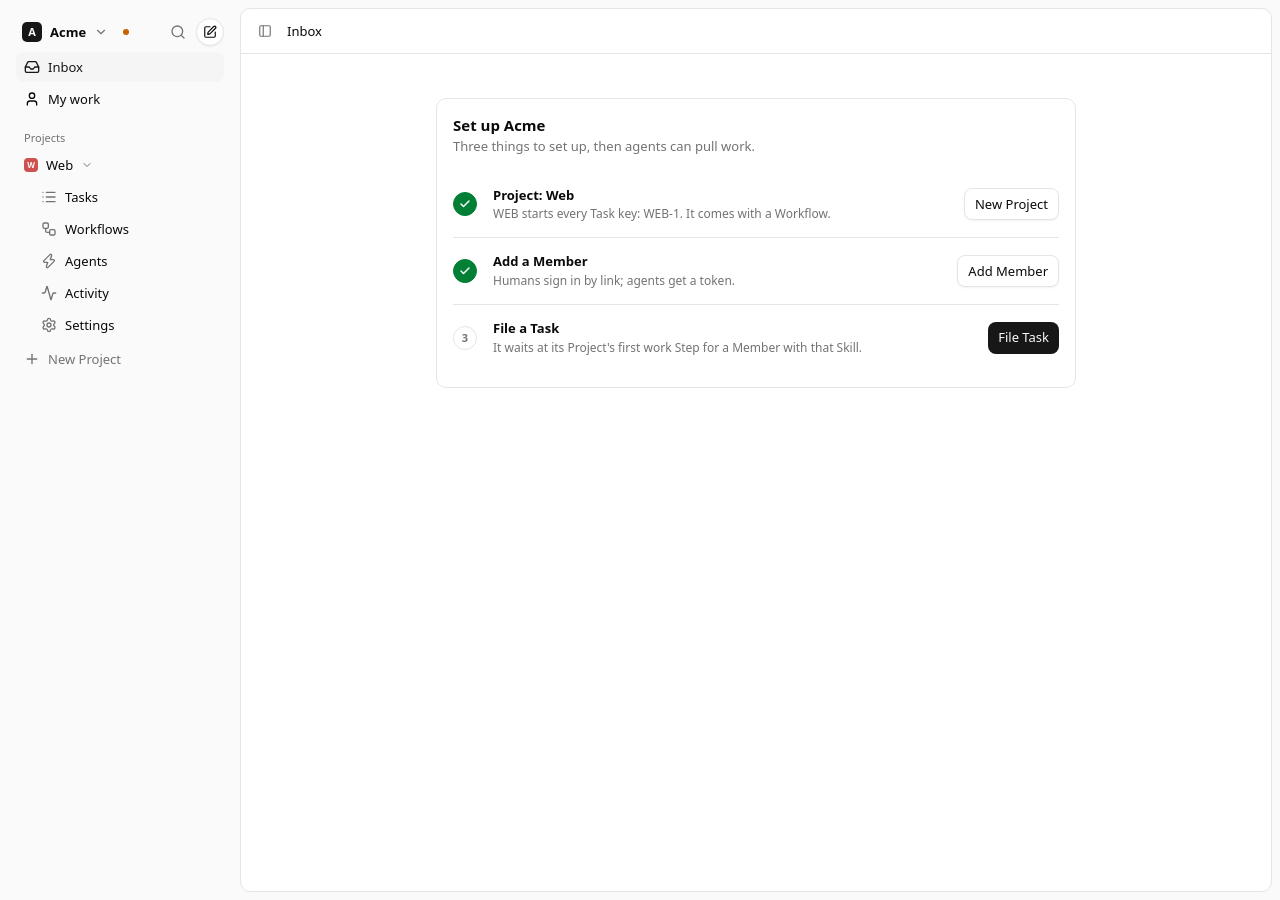
Test case: the Organisation menu › Switch Organisation names the sign-in, lists the one Organisation on Local ticked, and leads to Account settings
Click the button "A Acme".
click(65, 32)  # box [16,16,114,48]
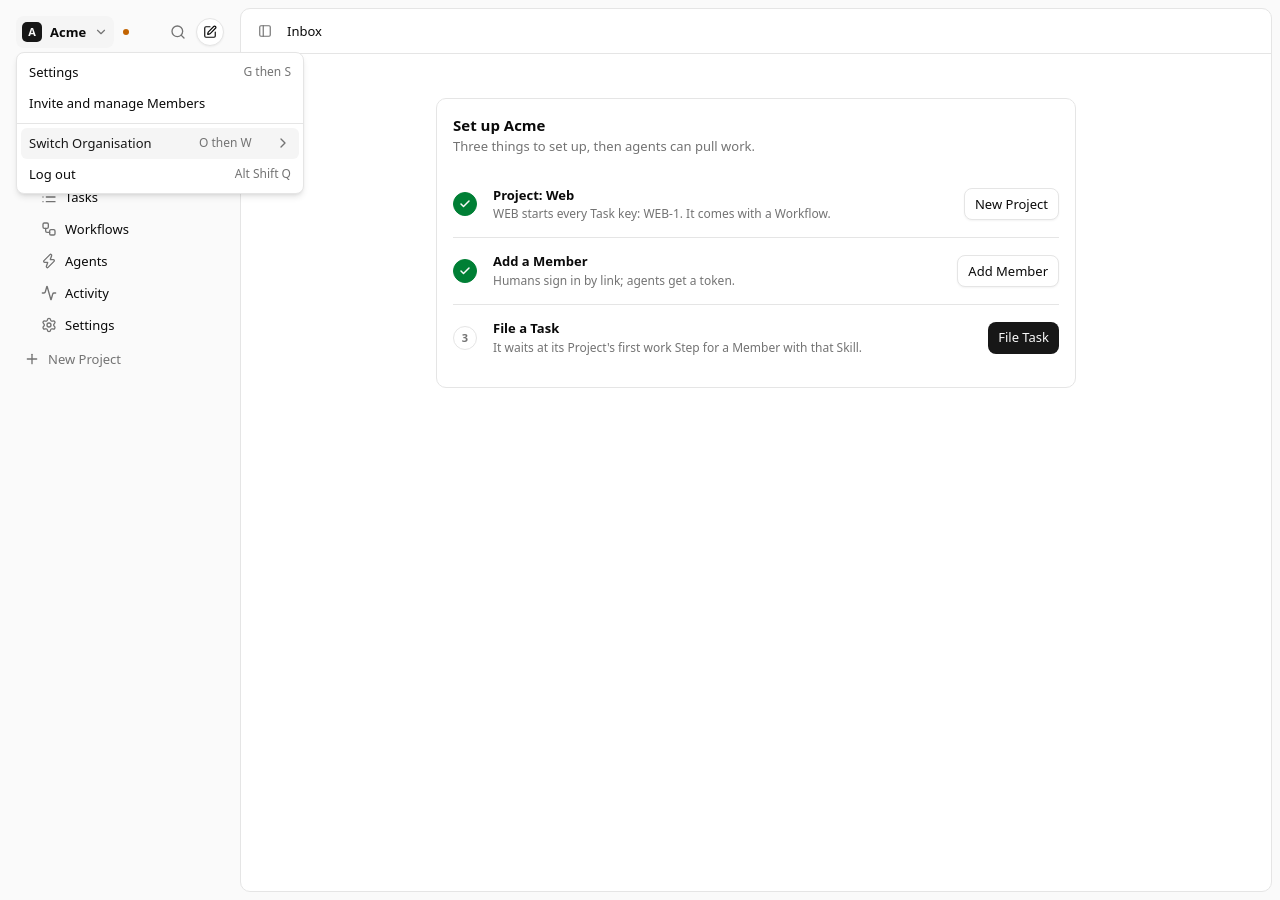
Press Arrowright
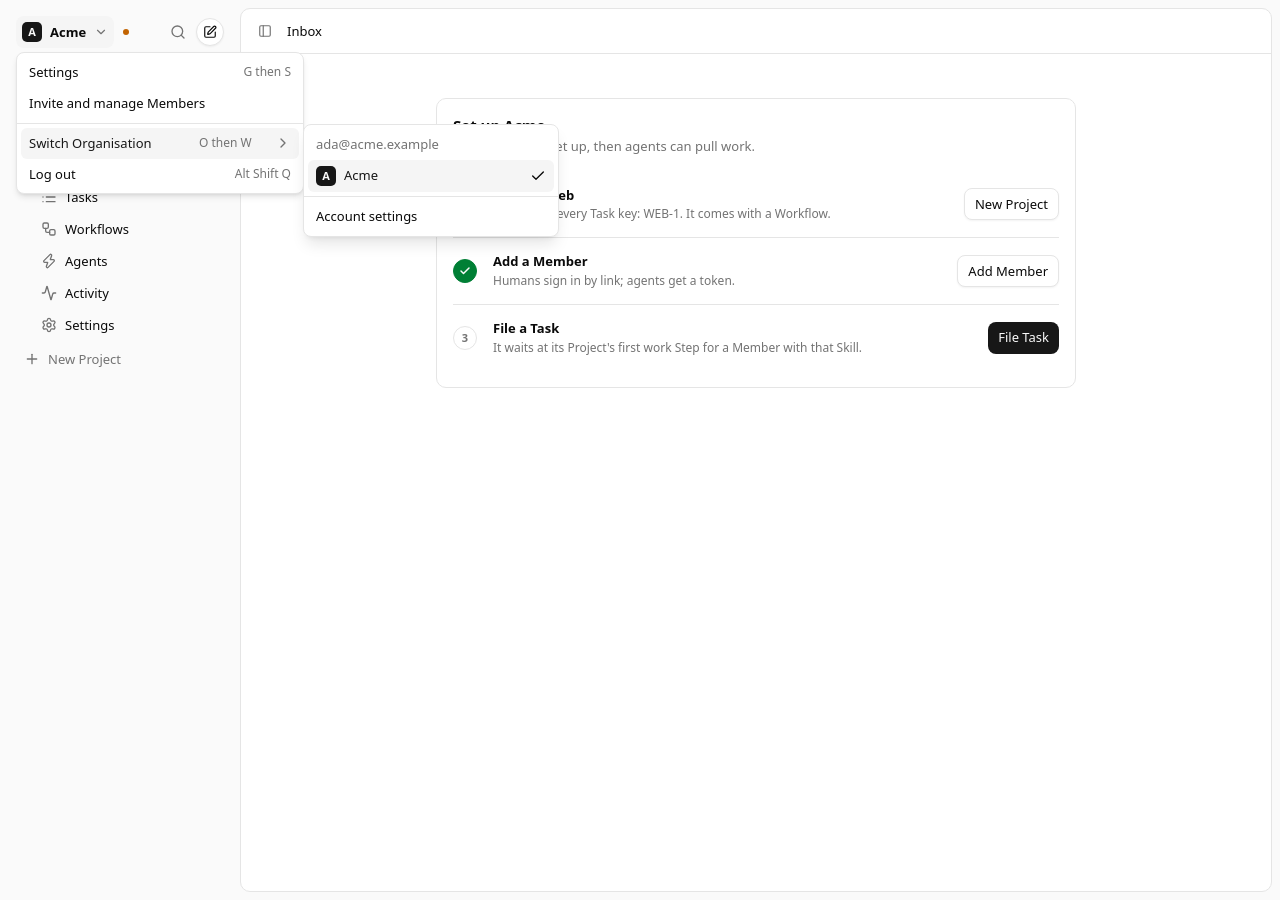
Expected: the number of menus is 2, [16,52,304,194]; [303,124,559,237]
Expected: the menu reads "ada@acme.example A Acme Account settings", [303,124,559,237]
Click the menu item "Account settings".
click(367, 216)  # box [316,207,417,225]
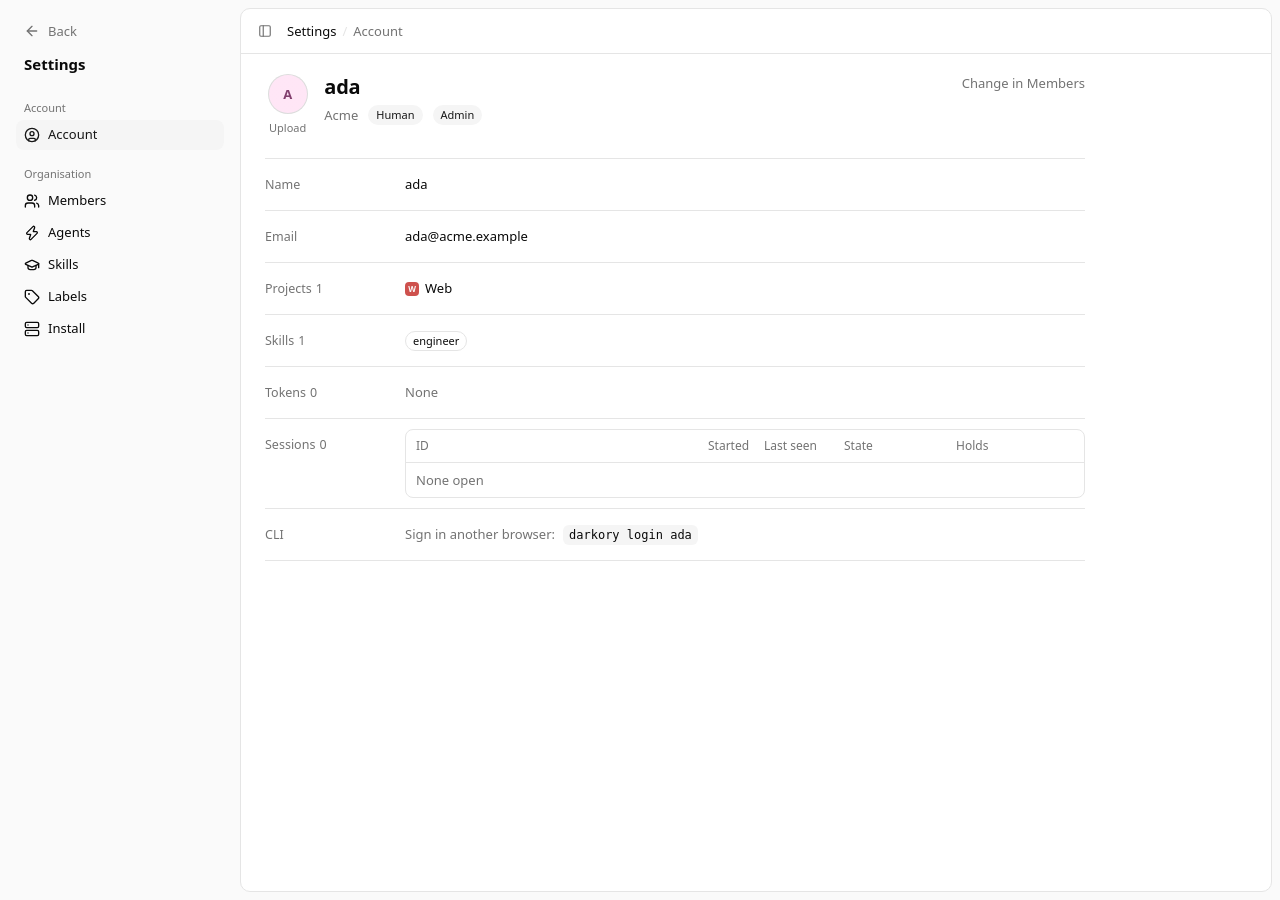
Expected: the navigation bar named "Breadcrumb" reads "Settings / Account", [287,22,403,40]
